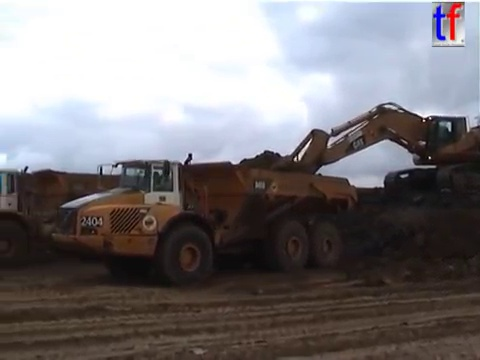excavator: (236, 100, 480, 213)
truck: (48, 151, 362, 288), (1, 163, 186, 271)
